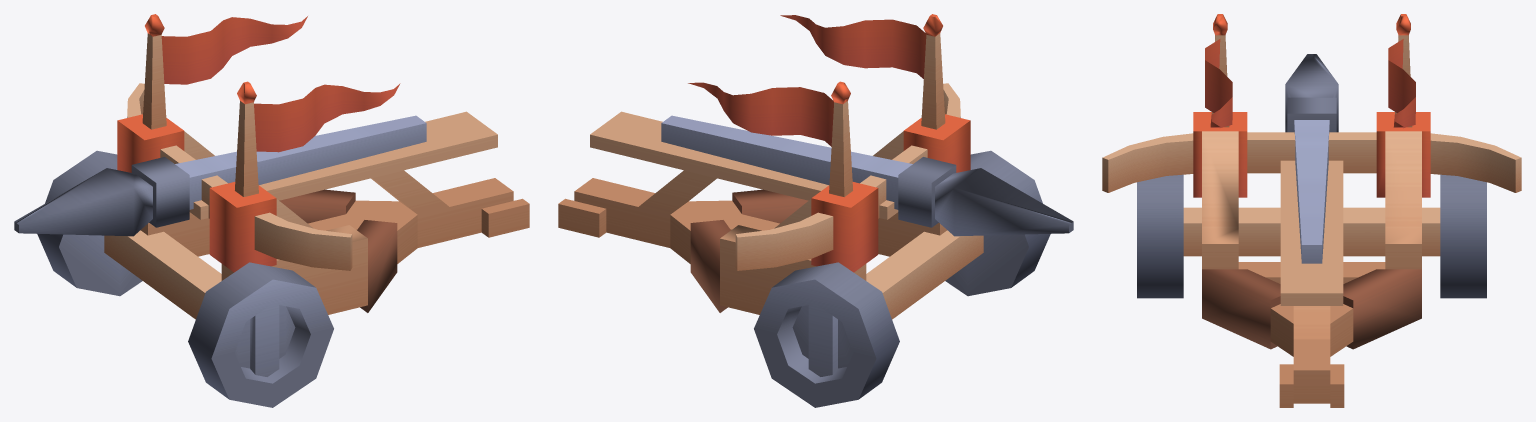
File: siege-ballista.fbx
3 views of the same model, side by side, from view 1: azimuth 30°, elevation 25°; view 2: azimuth 150°, elevation 25°; view 3: azimuth 270°, elevation 25° (orthographic).
Parts seen in each view (by area): view 1: siege-ballista, arrow, wheel.005, wheel.006; view 2: siege-ballista, arrow, wheel.006, wheel.005; view 3: siege-ballista, arrow, wheel.005, wheel.006.
Boxes of the visible parts, x1,y1,x2,y2 form: siege-ballista: (104,14,529,319); arrow: (14,115,426,236); wheel.005: (188,262,333,407); wheel.006: (37,150,142,296); siege-ballista: (558,14,983,319); arrow: (661,115,1073,236); wheel.006: (754,262,899,407); wheel.005: (945,150,1050,296); siege-ballista: (1102,14,1521,407); arrow: (1285,54,1338,263); wheel.005: (1137,174,1183,298); wheel.006: (1440,174,1486,298).
Bounding box in the file's own units: 1.63 × 1.2 × 0.9103.
